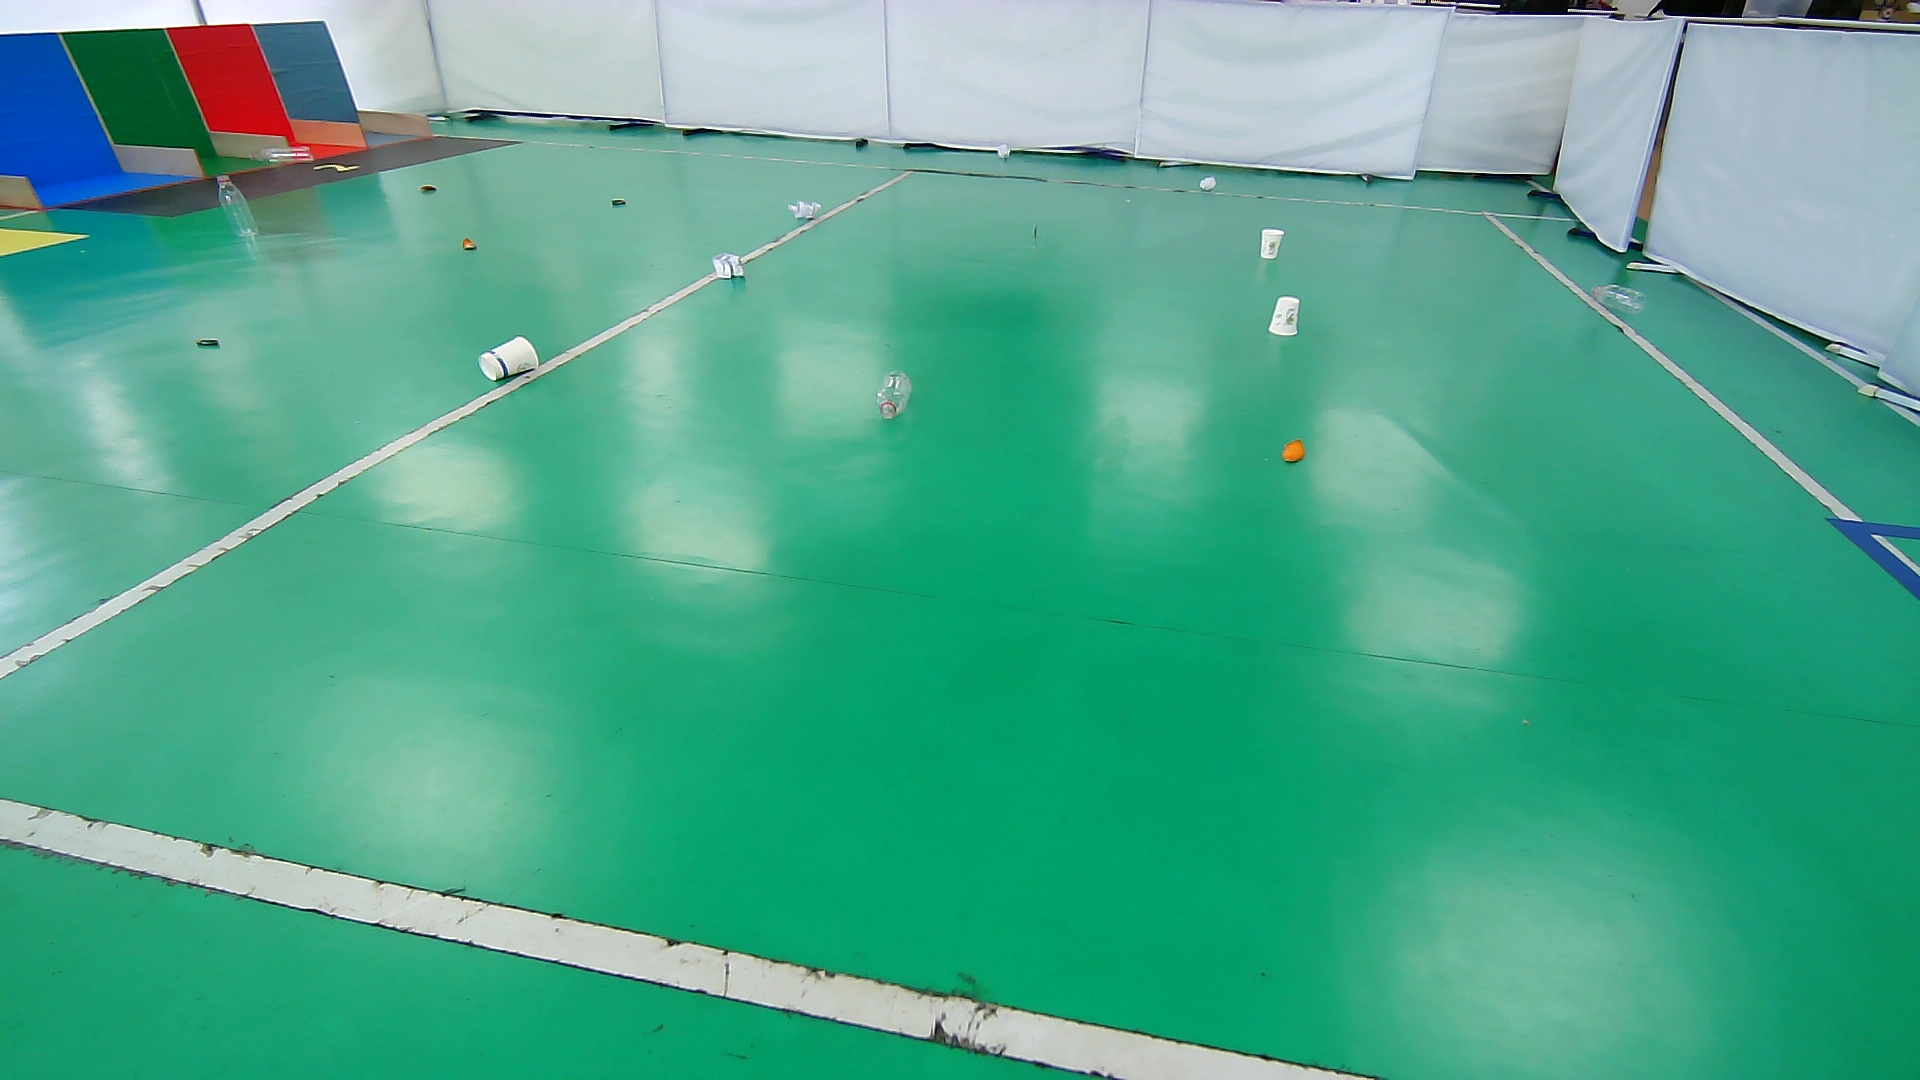battery: (193, 332, 224, 353), (605, 193, 632, 211), (1027, 219, 1043, 244)
bottle: (214, 171, 268, 243), (872, 364, 914, 426), (1589, 280, 1651, 316), (251, 142, 318, 169)
orangepeel: (1276, 434, 1311, 469), (458, 232, 481, 255)
papercup: (476, 332, 541, 382), (1262, 293, 1304, 338), (1254, 224, 1284, 262)
spitball: (709, 249, 746, 284), (789, 195, 823, 224), (1197, 174, 1218, 193)
